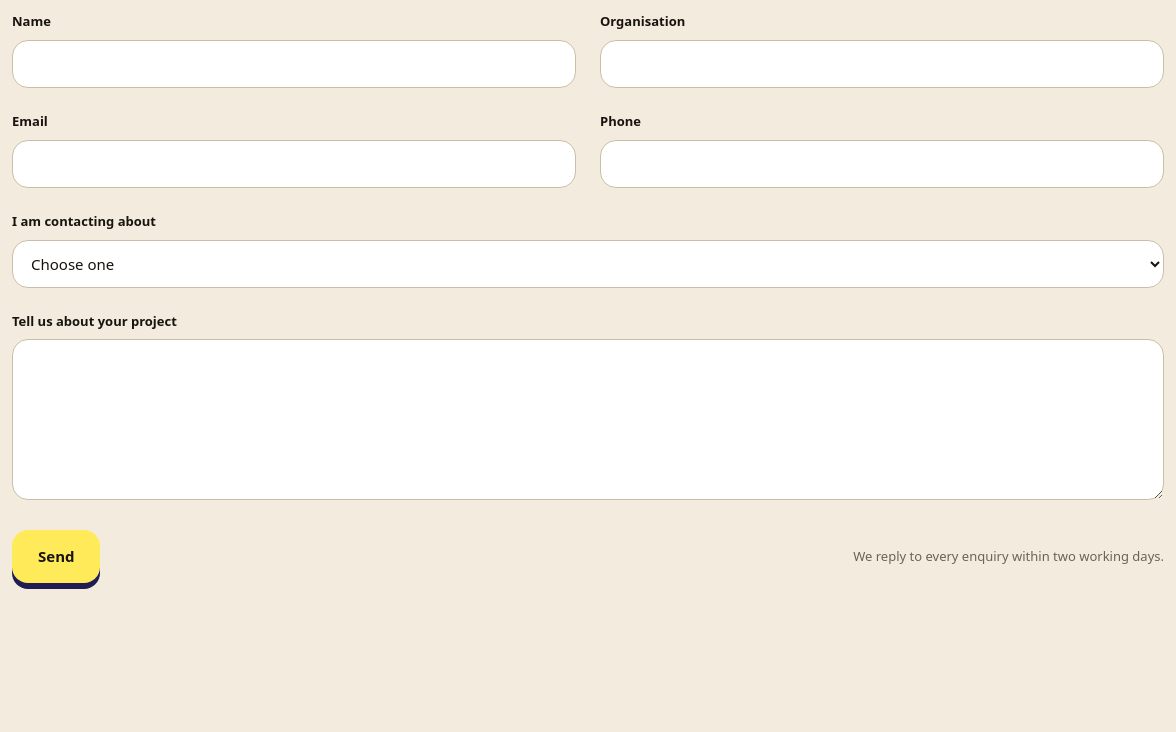
ContactForm › shows the send-failure copy when delivery fails
Click the button "Send" at [56, 556], box [12,530,100,582]
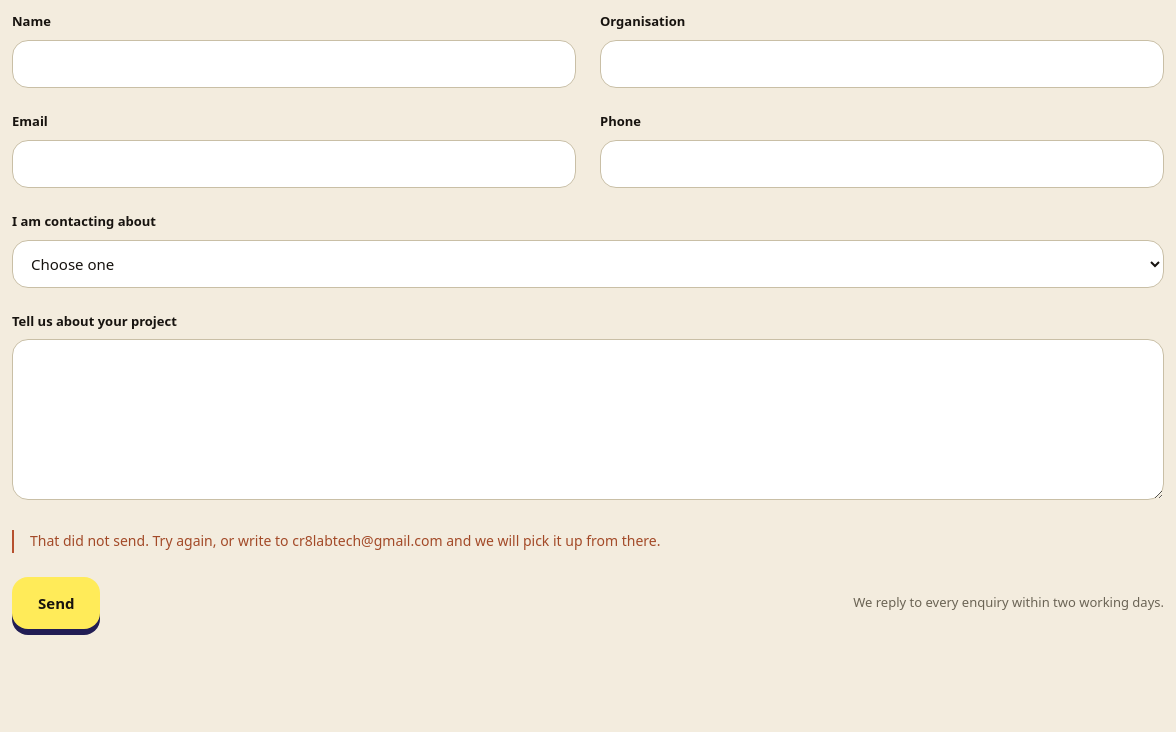
Check: the text "That did not send." is shown, box [30,531,660,550]
